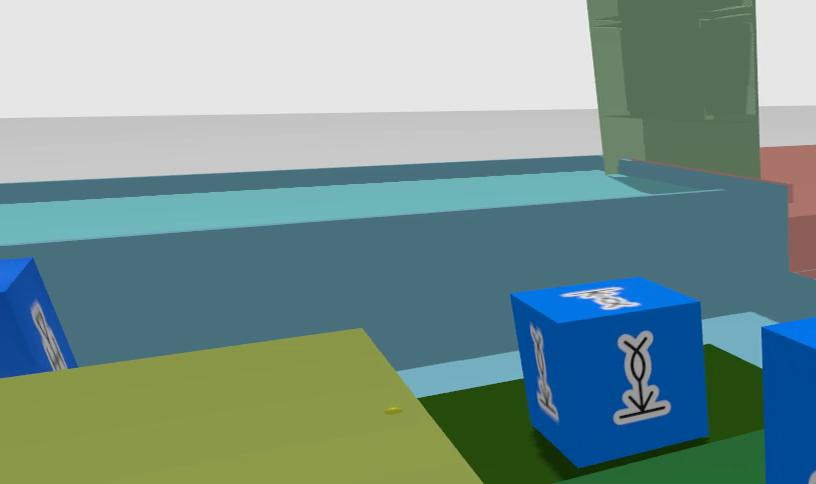KFS_REAL: (511, 275, 710, 470), (762, 316, 816, 484), (613, 331, 669, 424), (529, 322, 559, 421), (562, 287, 639, 310), (809, 470, 816, 484)
